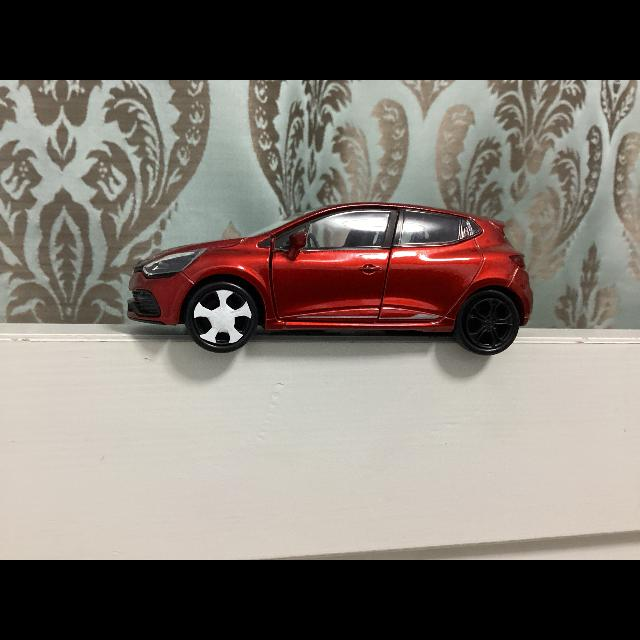Dogru_Jant: (464, 297, 514, 349)
Yanlis_Jant: (193, 290, 253, 346)
